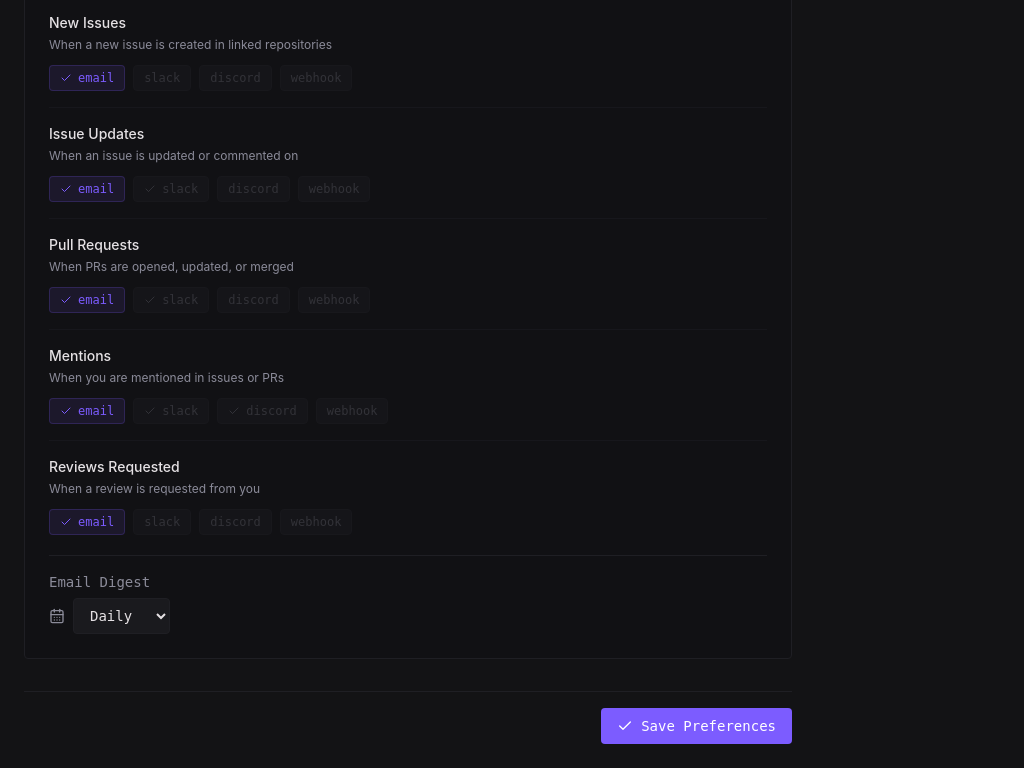
Test: settings page interactions › supports digest preference and notification save
(page scrolled)
Select "Weekly" in the dropdown labelled "Email Digest" at (122, 616), box [73,598,170,634]
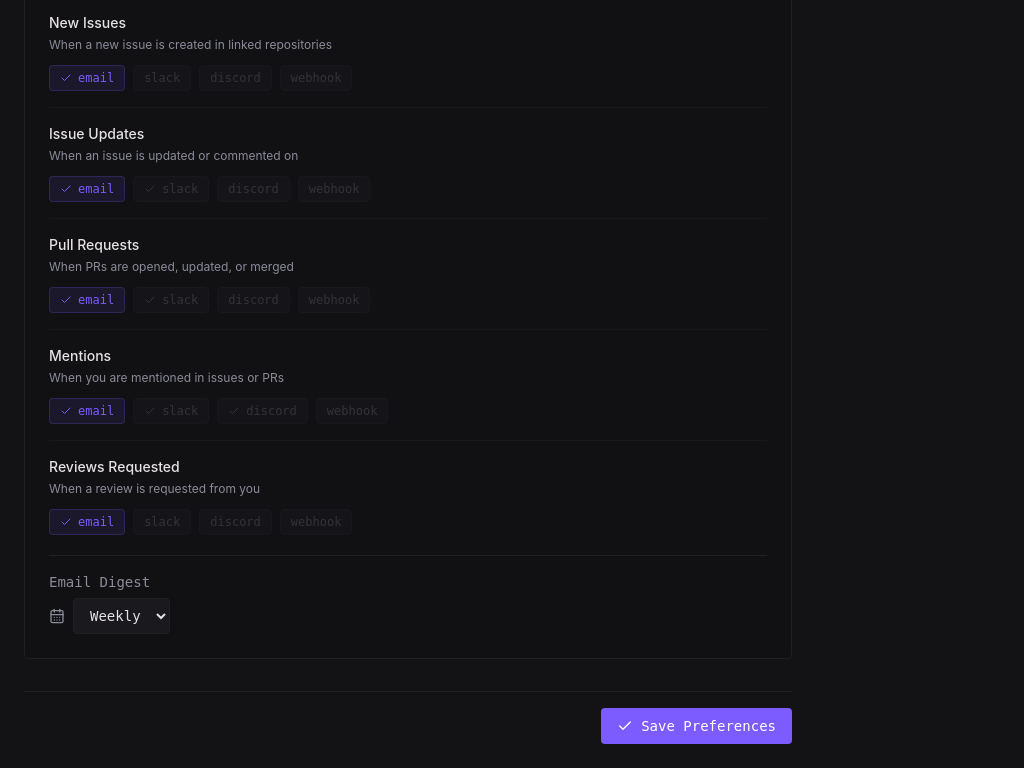
Click the button "Save Preferences" at (697, 726), box [601,708,792,744]
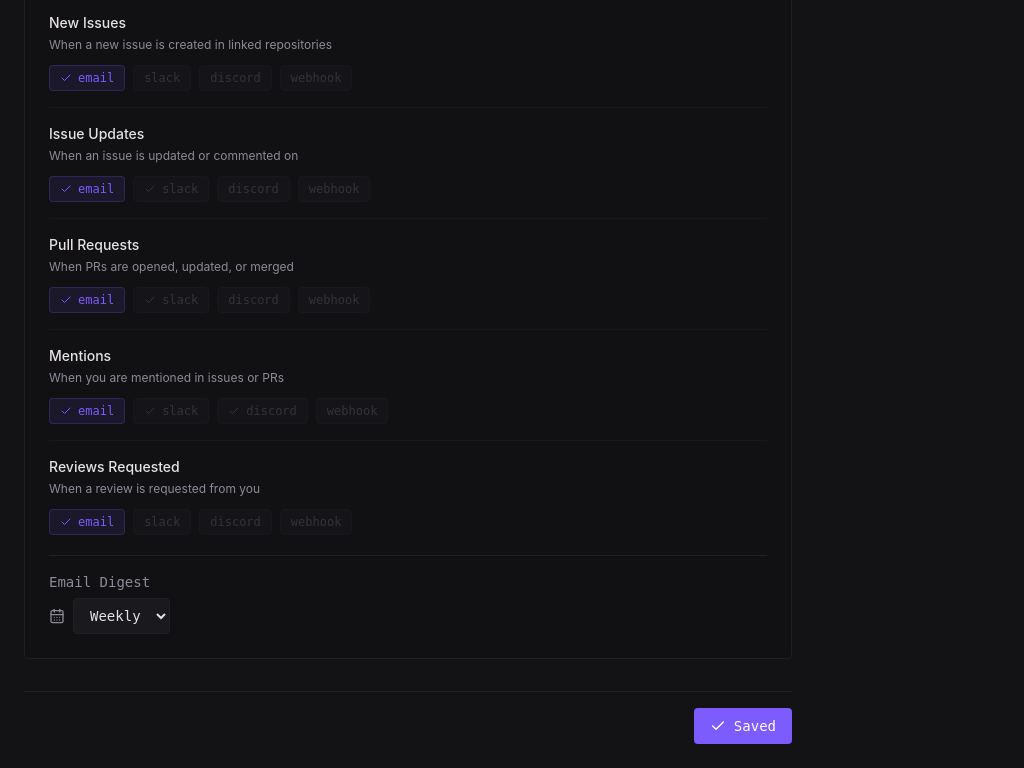
Now the button "Saved" is shown, box [694,708,792,744]
